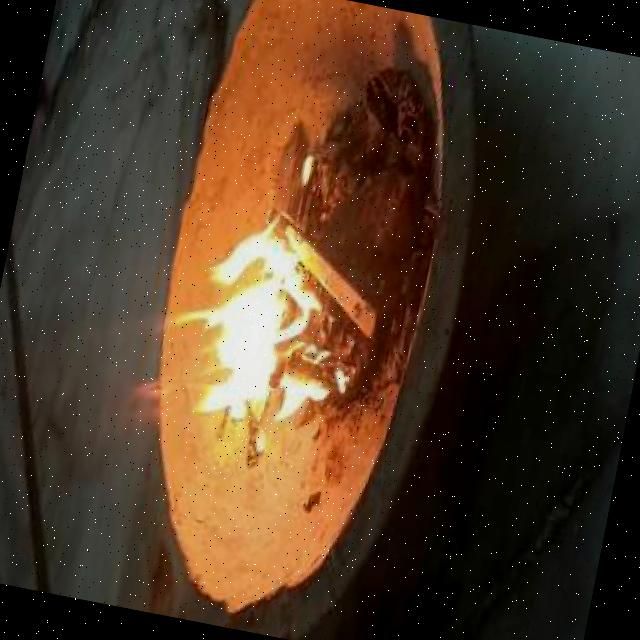fire: (133, 204, 335, 456)
